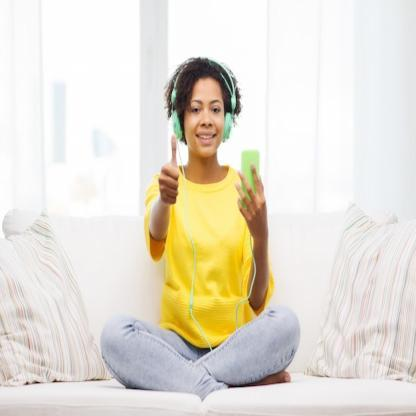thumb_up: (154, 134, 182, 209)
